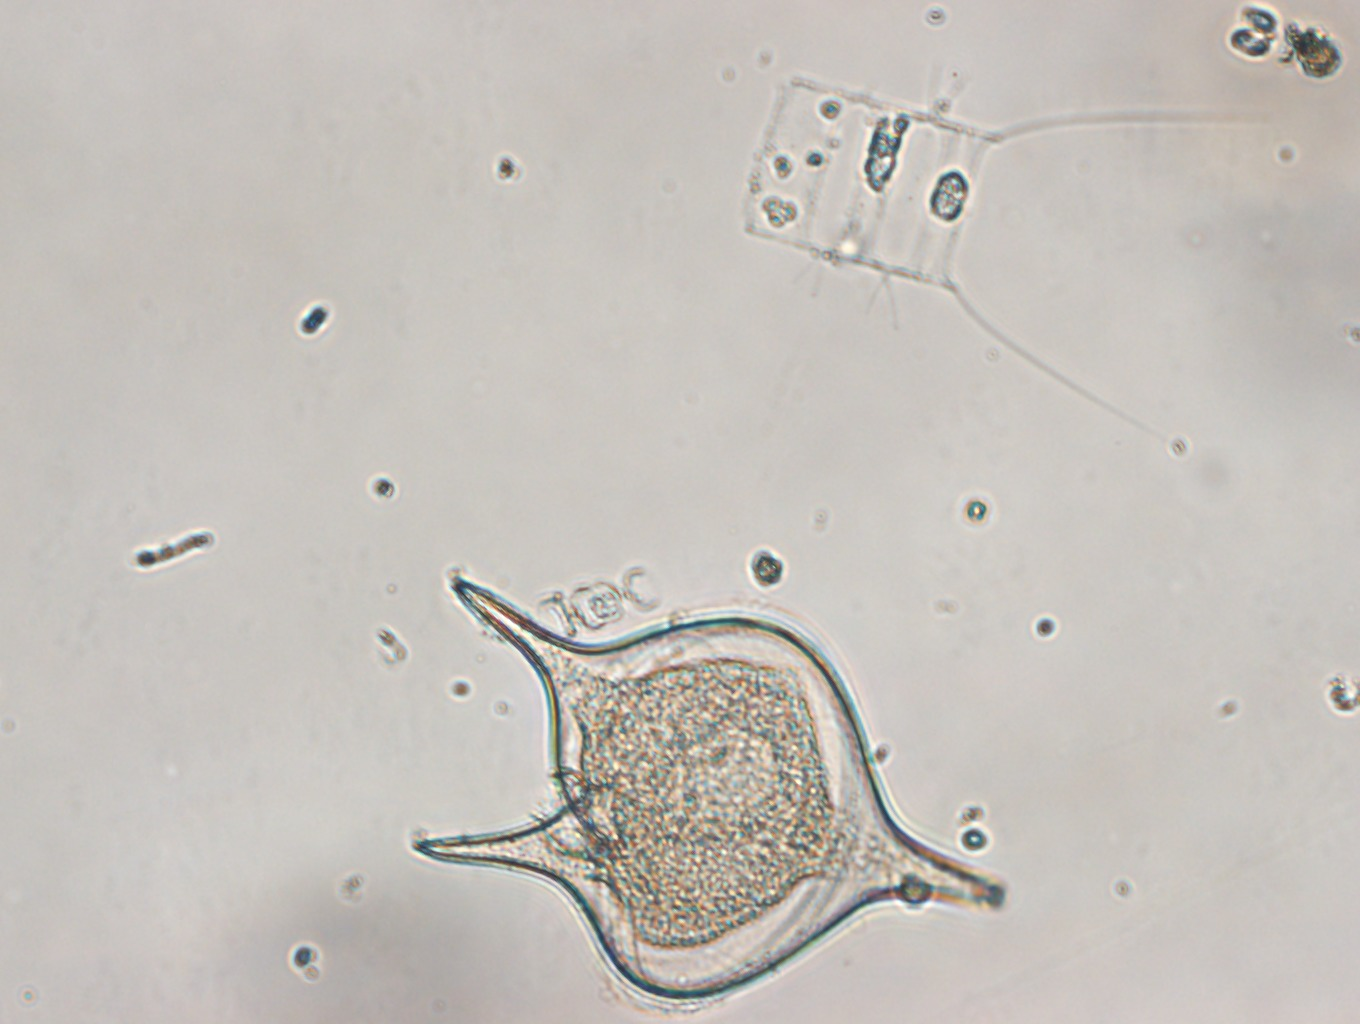protoperidinium: (395, 559, 1014, 1020)
